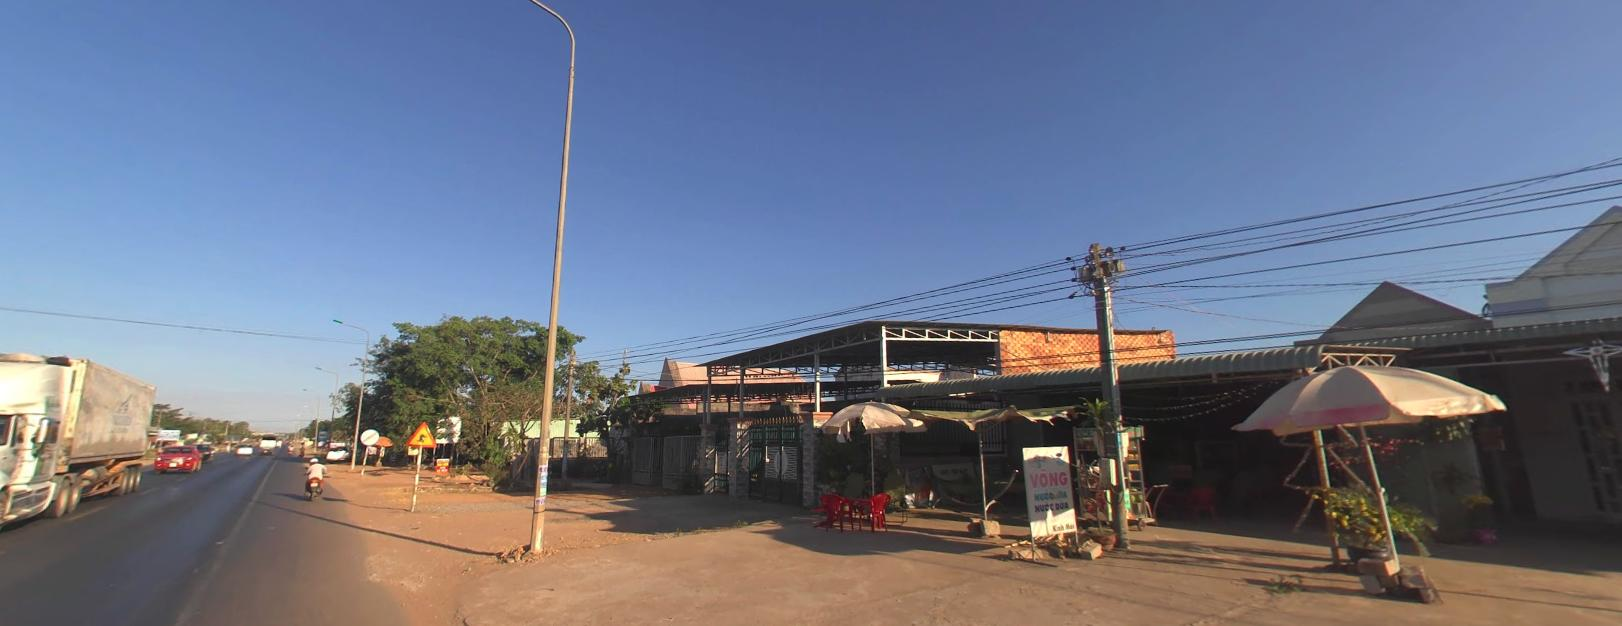Cam con lai: (360, 426, 379, 444), (360, 427, 378, 444)
Nguy hiem: (405, 420, 438, 447), (408, 420, 434, 445)
